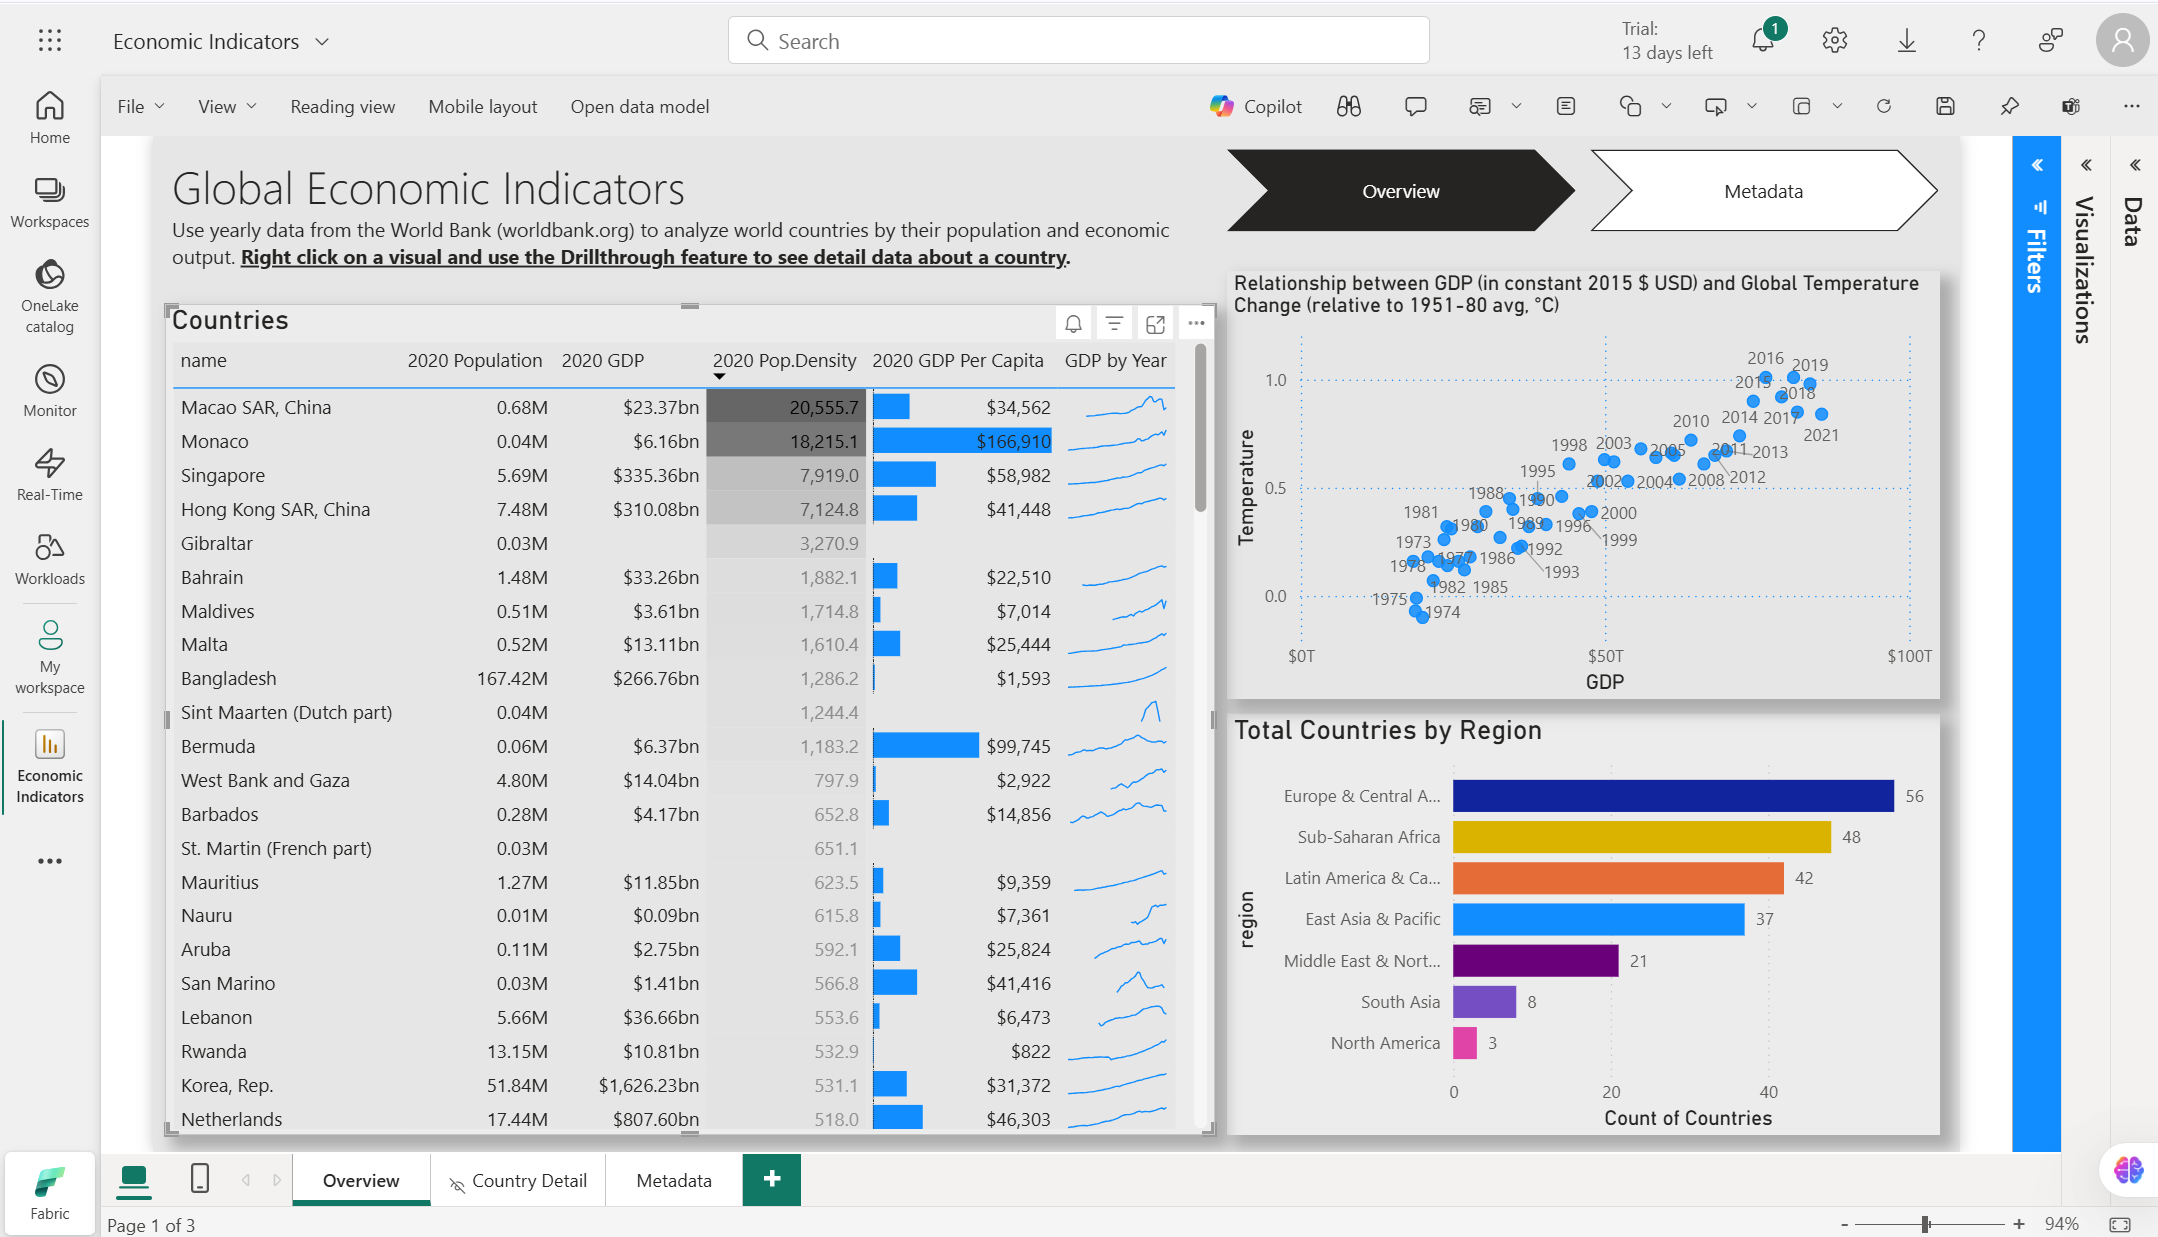

Layout of this report page (visuals, bound fields, positions):
{"tool":"powerbi","page":{"name":"Overview","canvas":[1280,720],"ordinal":0},"visuals":[{"type":"tableEx","title":"Countries","fields":{"Values":["Countries.name","_Measures.2020 Population","_Measures.2020 GDP","_Measures.2020 Pop.Density","_Measures.2020 GDP Per Capita","SparklineData(_Measures.GDP_[Indicators.Year])"]},"box":[8.9,118.9,743.3,588.9],"z":0},{"type":"clusteredBarChart","title":"Total Countries by Region","fields":{"Category":["Countries.region"],"Y":["Count(Countries)"]},"box":[761.1,408.9,505.6,298.9],"z":1000},{"type":"pageNavigator","box":[760.9,9.4,505.2,58.2],"z":2000},{"type":"textbox","box":[8.9,8.9,743.3,100],"z":3000},{"type":"scatterChart","title":"Relationship between GDP (in constant 2015 $ USD) and Global Temperature Change (relative to 1951-80 avg, °C)","fields":{"Category":["Year.Year"],"X":["_Measures.GDP"],"Y":["_Measures.Temperature"]},"box":[760.9,95.6,505.2,303.5],"z":4000}]}

Visuals, with their boxes on the page's 1280x720 design canvas (x1, y1, x2, y2). These are canvas units, not pixel positions in the 2158x1237 screenshot, which may show the page scaled, cropped or inside an application window:
"Countries" tableEx: <box>9,119,752,708</box>
"Total Countries by Region" clusteredBarChart: <box>761,409,1267,708</box>
pageNavigator: <box>761,9,1266,68</box>
textbox: <box>9,9,752,109</box>
"Relationship between GDP (in constant 2015 $ USD) and Global Temperature Change (relative to 1951-80 avg, °C)" scatterChart: <box>761,96,1266,399</box>
